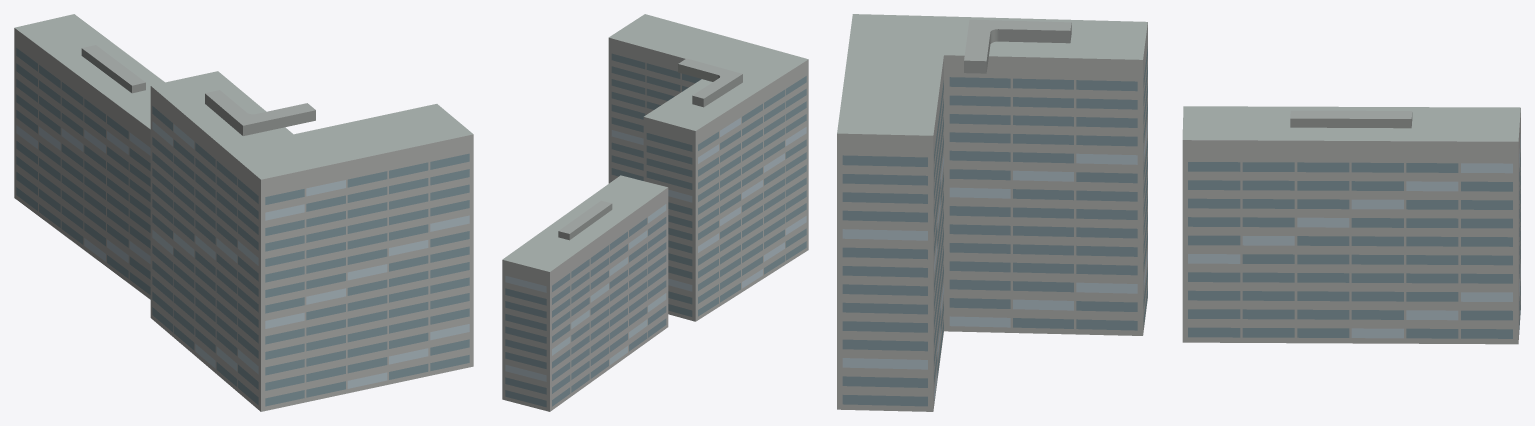
The model's file is apt-a12282201.glb.
3 views of the same model, side by side, from view 1: azimuth 30°, elevation 25°; view 2: azimuth 150°, elevation 25°; view 3: azimuth 270°, elevation 25° (orthographic). The views are drawn at different scales.
Visible parts, largest first — view 1: apt-a12282201; view 2: apt-a12282201; view 3: apt-a12282201.
Boxes of the visible parts, x1,y1,x2,y2 form: apt-a12282201: [14, 14, 473, 411]; apt-a12282201: [502, 14, 808, 411]; apt-a12282201: [837, 14, 1520, 411].
Size of the model in its own units: 43.28 by 47.81 by 103.
